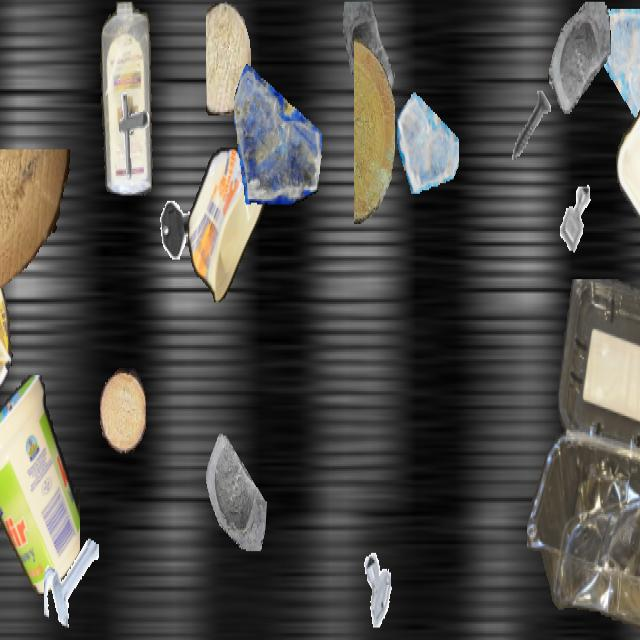glass: (234, 52, 322, 208), (193, 418, 267, 549), (339, 1, 403, 116), (397, 84, 459, 194), (548, 2, 610, 112), (595, 2, 640, 130), (639, 426, 640, 562)
metal: (44, 530, 98, 626), (104, 87, 158, 183), (505, 80, 559, 176), (550, 172, 602, 265), (358, 548, 402, 626), (158, 190, 200, 265), (0, 2, 3, 98)
plastic: (527, 279, 640, 638), (0, 375, 80, 596), (188, 147, 266, 300), (98, 2, 156, 194), (615, 38, 640, 236), (0, 235, 14, 409)
wood: (0, 150, 71, 292), (354, 39, 394, 224), (206, 1, 250, 116), (100, 368, 146, 453)
